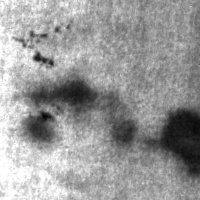patches: (152, 104, 199, 175), (21, 72, 103, 112), (20, 108, 57, 142), (109, 117, 138, 146)
